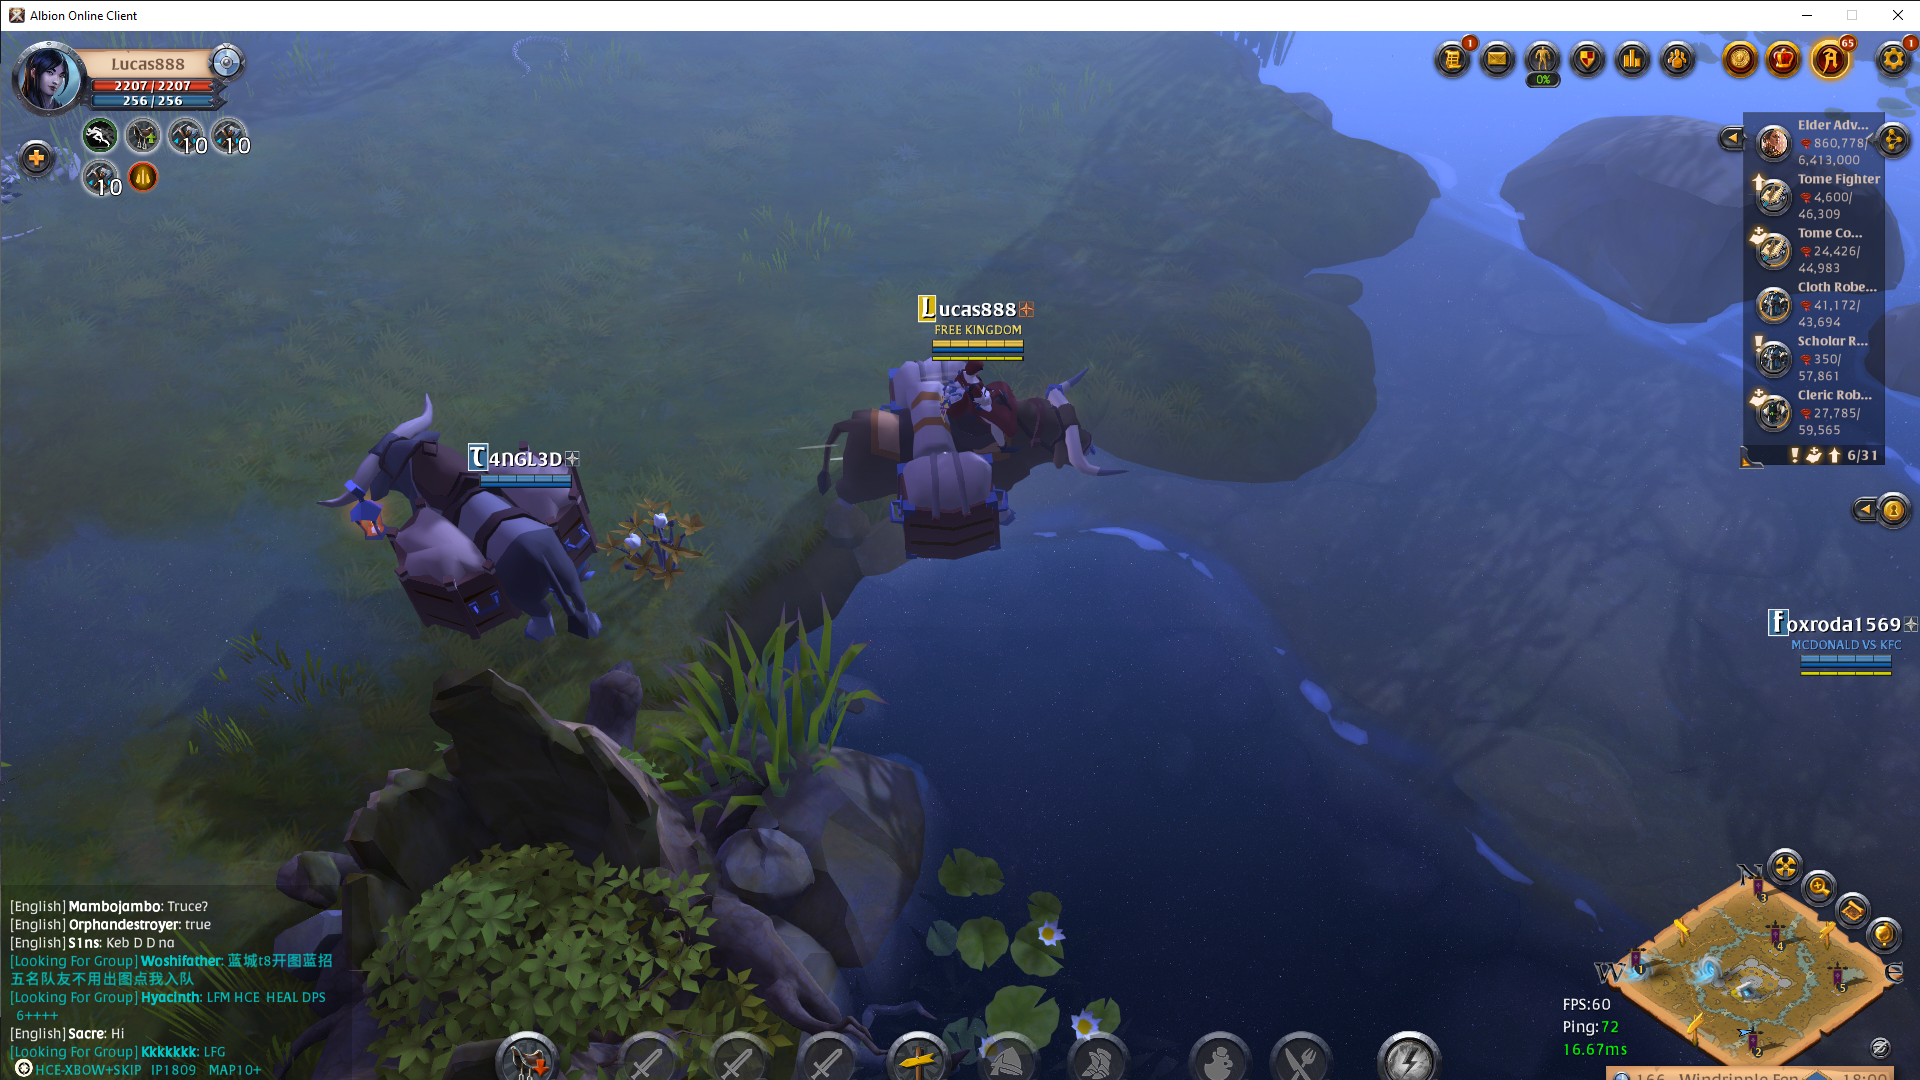cotton: (583, 480, 715, 605)
